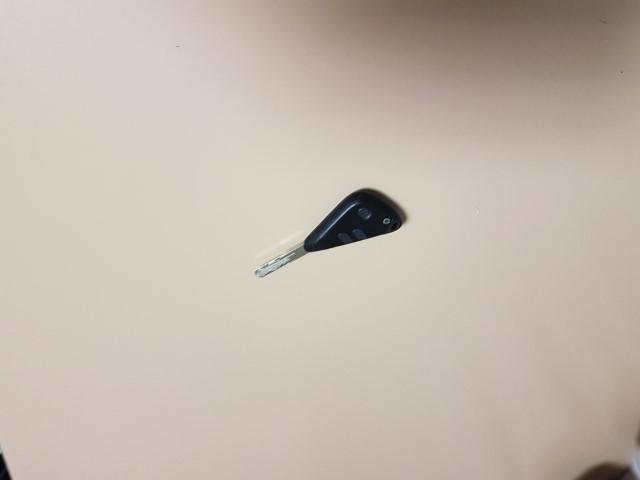key: (248, 178, 414, 299)
